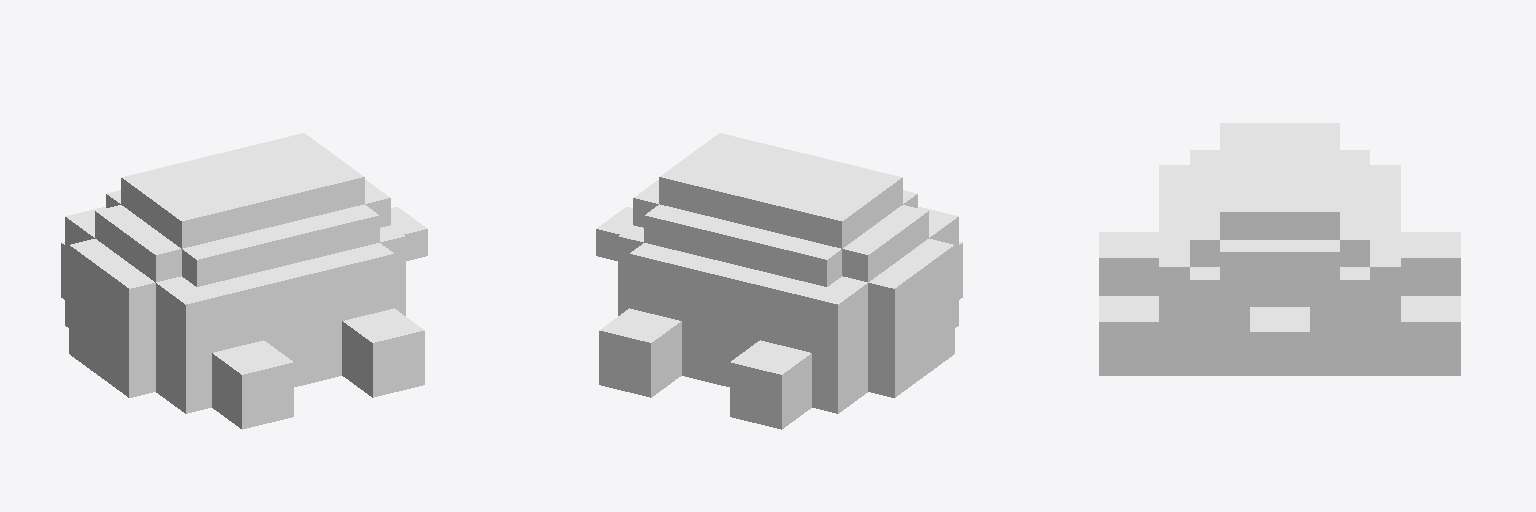
File: flathedgehog.obj
3 views of the same model, side by side, from view 1: azimuth 30°, elevation 25°; view 2: azimuth 150°, elevation 25°; view 3: azimuth 270°, elevation 25° (orthographic).
Parts seen in each view (by area): view 1: flathedgehog; view 2: flathedgehog; view 3: flathedgehog.
Part boxes in pixels (bbox=[...]): flathedgehog: bbox=[61, 133, 427, 429]; flathedgehog: bbox=[596, 133, 962, 429]; flathedgehog: bbox=[1099, 123, 1460, 375].
Bounding box in the file's own units: 12 × 6 × 12.